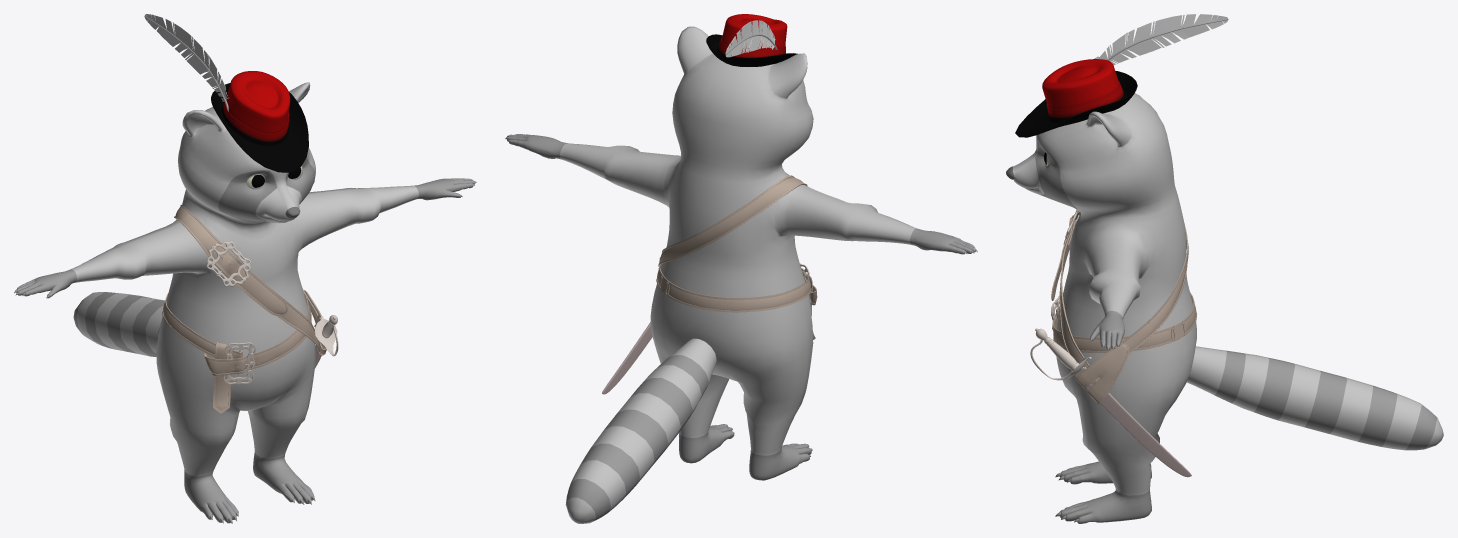
Rendered from bear.fbx.
3 renders of one model, left to right at view 1: azimuth 30°, elevation 25°; view 2: azimuth 150°, elevation 25°; view 3: azimuth 270°, elevation 25°, orthographic. The views are drawn at different scales.
Visible parts, largest first — view 1: Body_01_Final_Geo, Hat_01_Geo, Tail_01_Geo, Belt_01_01_Geo, Belt_02_01_Geo, Feather_01_Geo, Belt_02_02_Geo, Ribbon_01_Geo, Buckle_01_Geo, Belt_01_02Geo, Handle_01_Geo, Buckle_02_Geo; view 2: Body_01_Final_Geo, Tail_01_Geo, Belt_01_01_Geo, Belt_02_02_Geo, Hat_01_Geo, Feather_01_Geo, Scabbard_01_Geo; view 3: Body_01_Final_Geo, Tail_01_Geo, Hat_01_Geo, Feather_01_Geo, Belt_01_03_Geo, Belt_01_01_Geo, Scabbard_01_Geo, Belt_02_01_Geo, Belt_01_02Geo, Handle_01_Geo, Ribbon_01_Geo.
Boxes of the visible parts, box(x1,y1,x2,y2) form: Body_01_Final_Geo: box(14, 82, 476, 523); Hat_01_Geo: box(211, 71, 308, 172); Tail_01_Geo: box(73, 292, 164, 356); Belt_01_01_Geo: box(174, 204, 318, 320); Belt_02_01_Geo: box(203, 292, 311, 413); Feather_01_Geo: box(144, 14, 228, 111); Belt_02_02_Geo: box(162, 293, 242, 358); Ribbon_01_Geo: box(221, 101, 289, 145); Buckle_01_Geo: box(206, 241, 250, 286); Belt_01_02Geo: box(227, 263, 319, 351); Handle_01_Geo: box(314, 315, 338, 356); Buckle_02_Geo: box(223, 342, 255, 384); Body_01_Final_Geo: box(505, 26, 977, 480); Tail_01_Geo: box(565, 338, 716, 523); Belt_01_01_Geo: box(658, 175, 807, 266); Belt_02_02_Geo: box(666, 275, 811, 312); Hat_01_Geo: box(706, 14, 797, 66); Feather_01_Geo: box(725, 20, 777, 57); Scabbard_01_Geo: box(602, 322, 652, 394); Body_01_Final_Geo: box(1006, 56, 1196, 523); Tail_01_Geo: box(1186, 346, 1443, 450); Hat_01_Geo: box(1015, 59, 1137, 137); Feather_01_Geo: box(1098, 14, 1228, 64); Belt_01_03_Geo: box(1074, 343, 1129, 404); Belt_01_01_Geo: box(1051, 211, 1188, 354); Scabbard_01_Geo: box(1074, 366, 1191, 477); Belt_02_01_Geo: box(1053, 313, 1174, 352); Belt_01_02Geo: box(1059, 218, 1089, 367); Handle_01_Geo: box(1030, 328, 1091, 380); Ribbon_01_Geo: box(1046, 81, 1125, 122).
Bounding box in the file's own units: 15.16 × 14.33 × 12.2.
